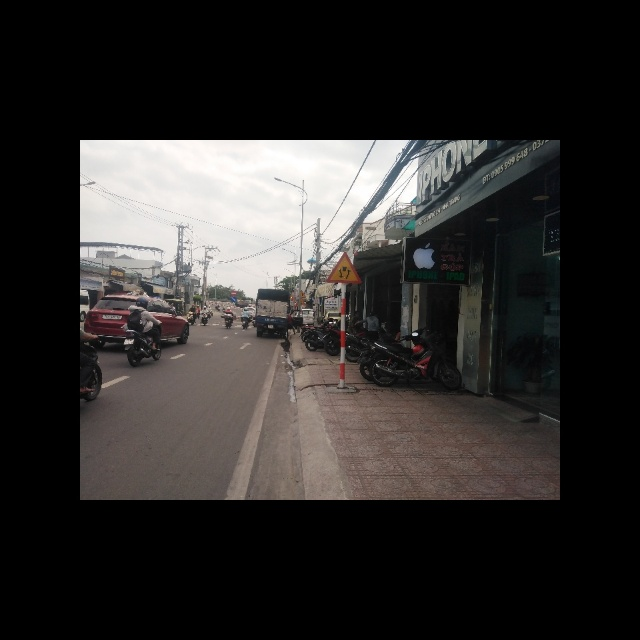Đường đôi: (326, 250, 363, 284)
